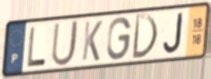D: (131, 13, 160, 61)
G: (105, 16, 133, 62)
J: (162, 11, 185, 55)
K: (80, 19, 104, 63)
L: (26, 26, 48, 69)
U: (50, 18, 81, 69)
